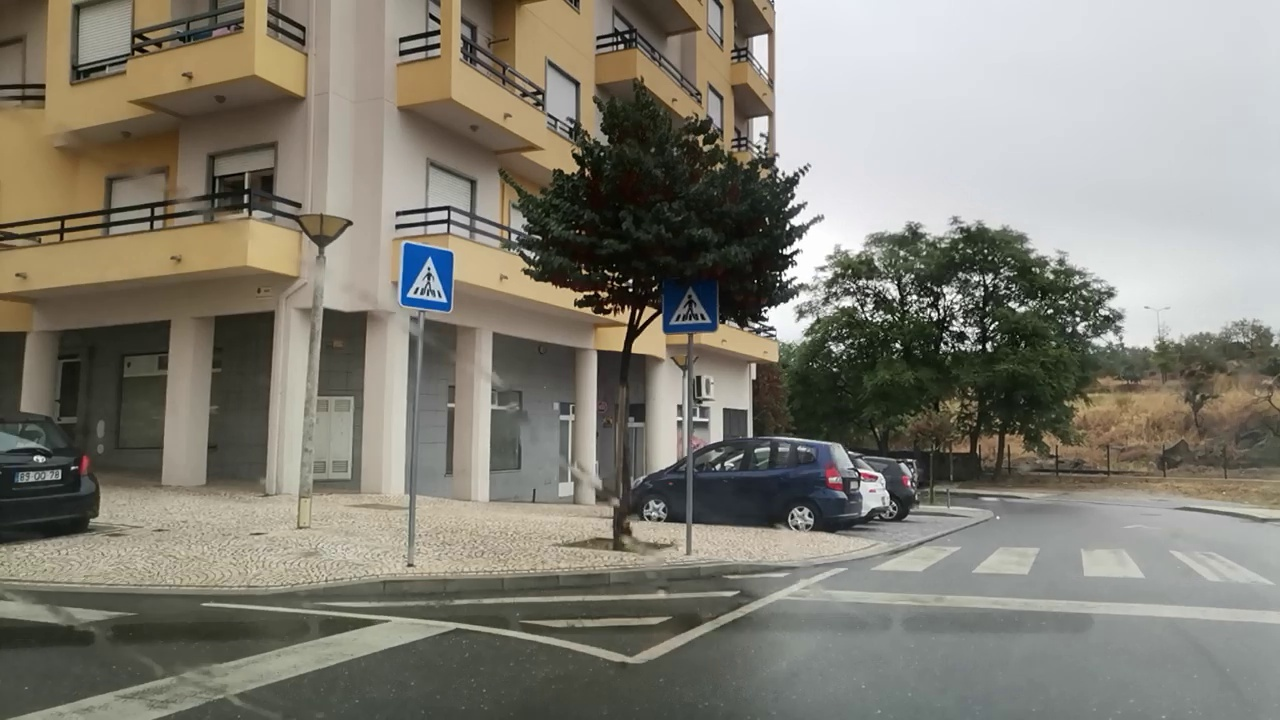Stairs: (870, 537, 1280, 593)
